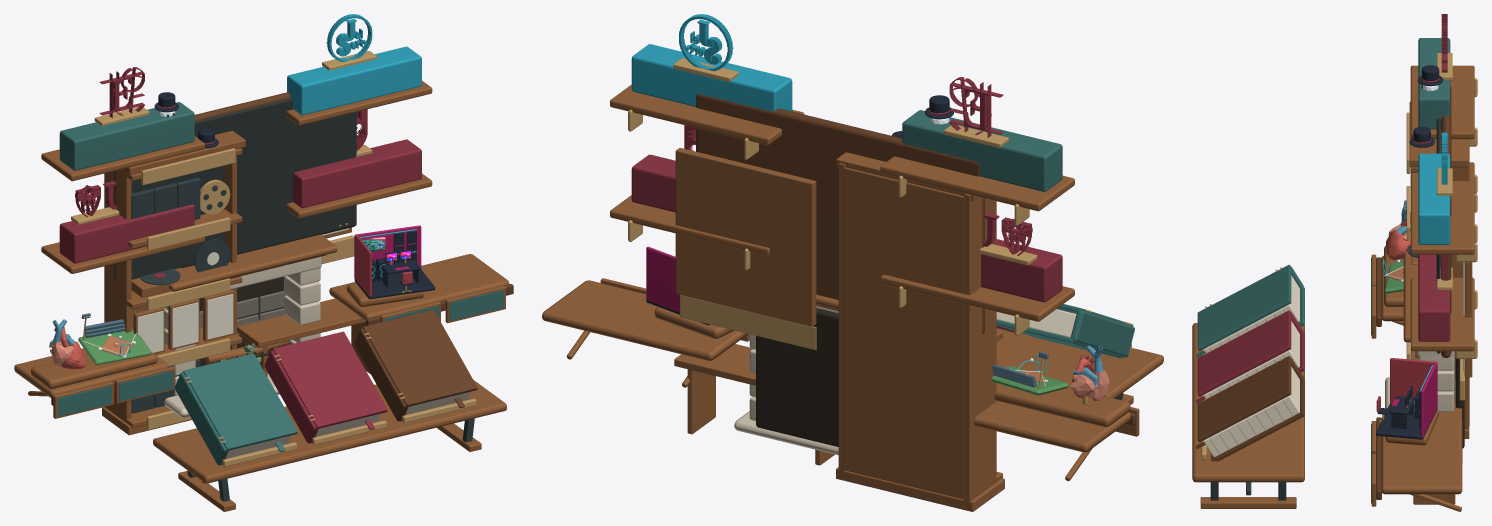
Rendered from chapters.glb.
3 renders of one model, left to right at view 1: azimuth 30°, elevation 25°; view 2: azimuth 150°, elevation 25°; view 3: azimuth 270°, elevation 25°, orthographic. The views are drawn at different scales.
Parts seen in each view (by area): view 1: Television bezel, V11 worktable oak top, Folio cover capabilities, Folio cover experiences, Folio cover work, Role plinth 2, Role plinth 0, Role plinth 3, Role plinth 1, Featured shelf.001, Warm oak mantel, Library side (+48 smaller); view 2: Library back, V12 portrait frame, Television oak surround, Firebox depth, Library side, Featured shelf.001, Role plinth 2, Role plinth 0, V11 worktable oak top, Featured shelf, Experience shelf 0, Experience shelf 2 (+24 smaller); view 3: V11 worktable oak top, Featured shelf.001, Folio cover experiences, Folio cover capabilities, Folio cover work, Experience shelf 2, Role plinth 2, Experience shelf 3, Experience shelf 0, Role plinth 3, Folio pages capabilities, Role plinth 0 (+26 smaller).
Part boxes in pixels (<box>): Television bezel: <box>131,98,356,279</box>; V11 worktable oak top: <box>153,380,506,483</box>; Folio cover capabilities: <box>362,309,477,406</box>; Folio cover experiences: <box>273,331,387,428</box>; Folio cover work: <box>183,353,297,450</box>; Role plinth 2: <box>287,46,421,115</box>; Role plinth 0: <box>59,102,194,170</box>; Role plinth 3: <box>293,139,421,208</box>; Role plinth 1: <box>59,204,194,263</box>; Featured shelf.001: <box>329,254,509,320</box>; Warm oak mantel: <box>169,234,337,291</box>; Library side: <box>104,169,131,422</box>; Library back: <box>843,167,964,499</box>; V12 portrait frame: <box>675,148,816,326</box>; Television oak surround: <box>696,94,984,334</box>; Firebox depth: <box>756,308,838,446</box>; Library side: <box>964,193,996,503</box>; Featured shelf.001: <box>542,280,747,360</box>; Role plinth 2: <box>631,44,792,111</box>; Role plinth 0: <box>902,110,1062,191</box>; V11 worktable oak top: <box>996,328,1163,398</box>; Featured shelf: <box>974,401,1131,452</box>; Experience shelf 0: <box>880,156,1074,211</box>; Experience shelf 2: <box>610,85,804,145</box>; V11 worktable oak top: <box>1192,323,1304,482</box>; Featured shelf.001: <box>1381,415,1462,494</box>; Folio cover experiences: <box>1197,310,1291,396</box>; Folio cover capabilities: <box>1197,356,1291,442</box>; Folio cover work: <box>1197,264,1291,350</box>; Experience shelf 2: <box>1410,181,1474,254</box>; Role plinth 2: <box>1418,153,1450,244</box>; Experience shelf 3: <box>1410,277,1474,351</box>; Experience shelf 0: <box>1410,65,1474,139</box>; Role plinth 3: <box>1418,254,1450,341</box>; Folio pages capabilities: <box>1203,366,1299,457</box>; Role plinth 0: <box>1418,38,1450,129</box>.
Bounding box in the file's own units: 8.18 × 5.96 × 4.2.
Materials: 36 (3 with a texture image).
